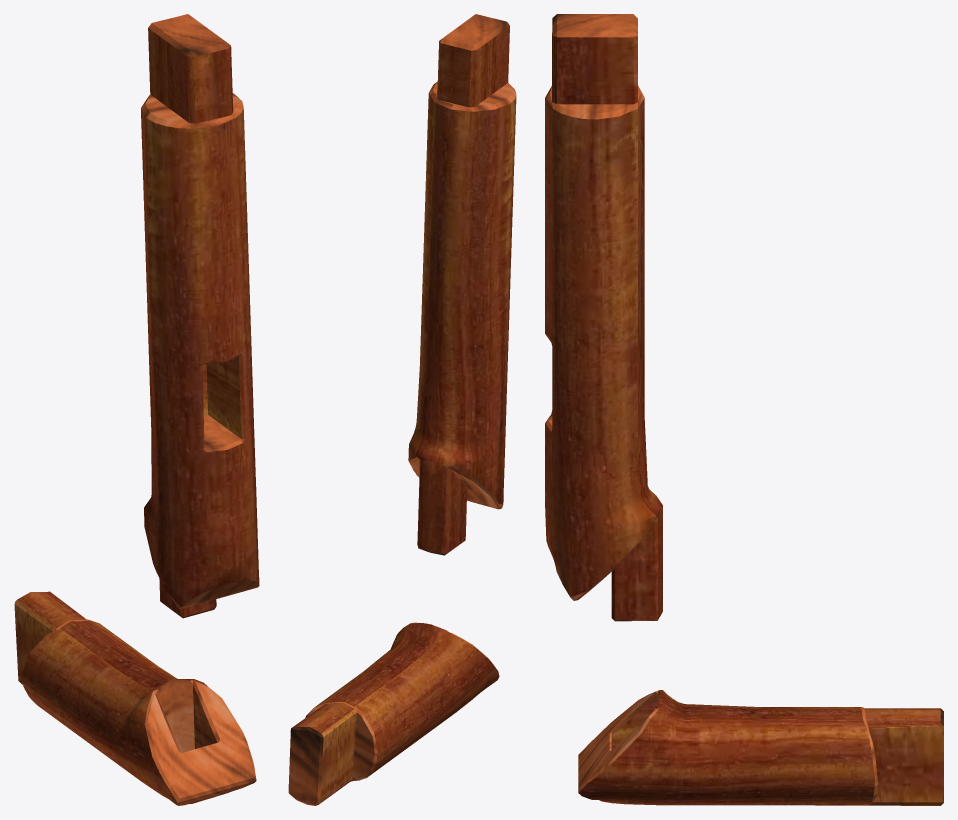
The model's file is ytsy_J_shugan_017.FBX.
3 views of the same model, side by side, from view 1: azimuth 30°, elevation 25°; view 2: azimuth 150°, elevation 25°; view 3: azimuth 270°, elevation 25° (orthographic). The views are drawn at different scales.
Parts seen in each view (by area): view 1: ytsy_J_shugan_017, ytsy_J_henggan_017; view 2: ytsy_J_shugan_017, ytsy_J_henggan_017; view 3: ytsy_J_shugan_017, ytsy_J_henggan_017.
Boxes of the visible parts, x1,y1,x2,y2 form: ytsy_J_shugan_017: [141, 14, 259, 618]; ytsy_J_henggan_017: [14, 591, 256, 805]; ytsy_J_shugan_017: [408, 14, 516, 555]; ytsy_J_henggan_017: [288, 622, 499, 805]; ytsy_J_shugan_017: [545, 14, 662, 621]; ytsy_J_henggan_017: [578, 690, 943, 805].
Bounding box in the file's own units: 2.37 × 16.51 × 7.75.
